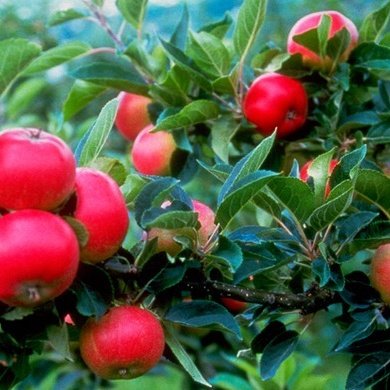apple: (1, 212, 84, 308), (79, 308, 168, 380), (1, 128, 76, 211), (75, 163, 131, 262), (148, 195, 219, 256), (242, 72, 306, 139), (287, 11, 359, 70), (132, 127, 184, 177), (113, 90, 161, 138), (298, 159, 347, 203), (369, 239, 390, 312)
